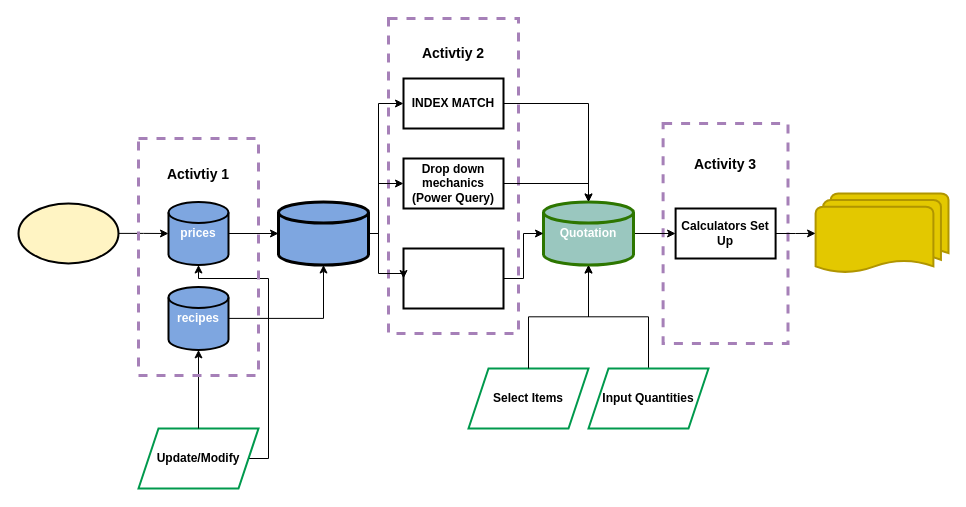
Some shapes in this 966 by 507 pixel diagram are drawn without their labels. Each missing label, with the centre of its shape:
FInalized Quotation Infomation: point 881,233
price + recipe: point 323,233
Quotation Table layout (Power Query + VBA): point 453,278
Start: point 68,233
